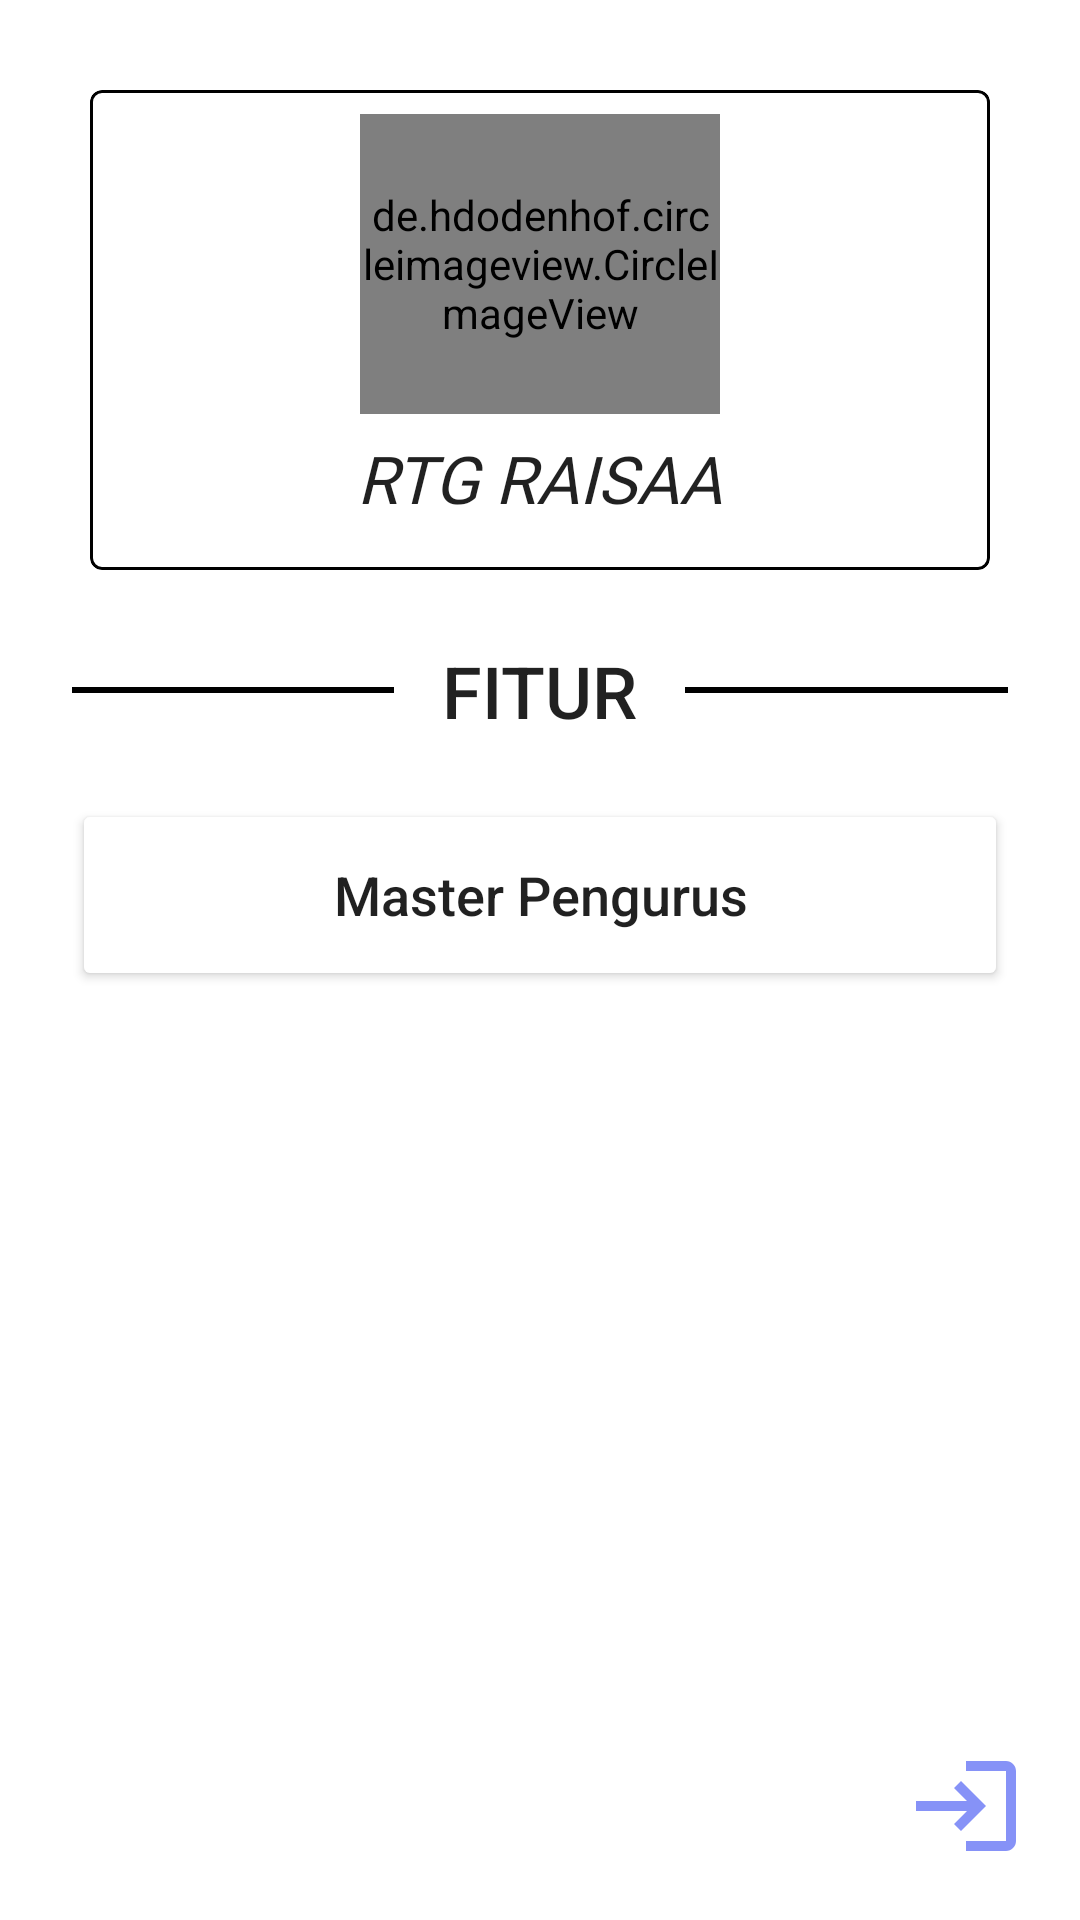

Named icons in this screenshot (1080px×1920px) and their bounding boxes, region(x1, y1, x2, y2):
login: region(916, 1761, 1016, 1851)
